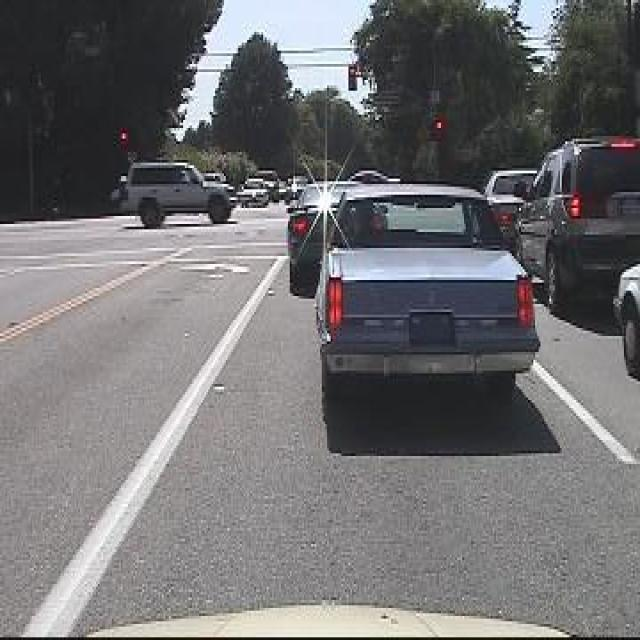car_back: (313, 170, 540, 422), (517, 130, 640, 314)
